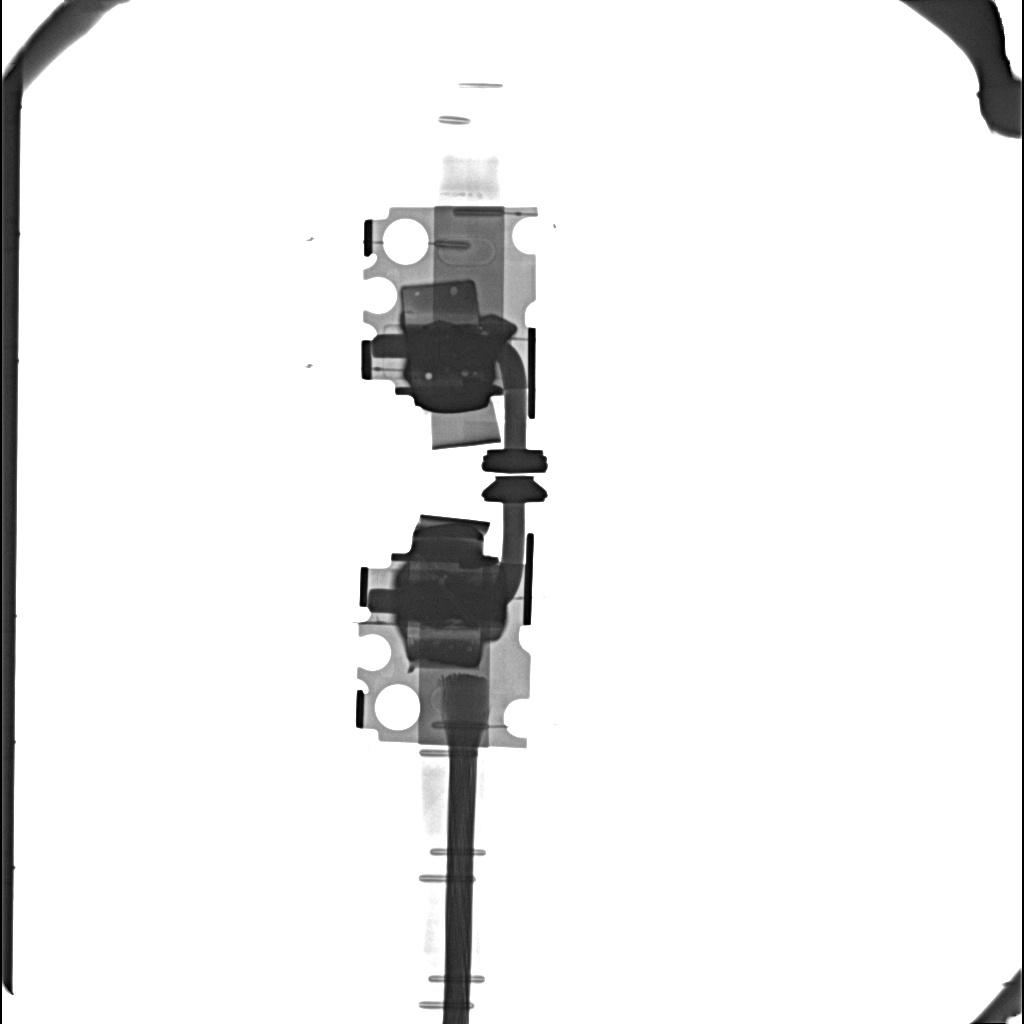气孔: (401, 279, 481, 331), (404, 623, 484, 668)
气泡: (425, 373, 433, 380)
水纹: (395, 581, 506, 626), (406, 326, 500, 373)
